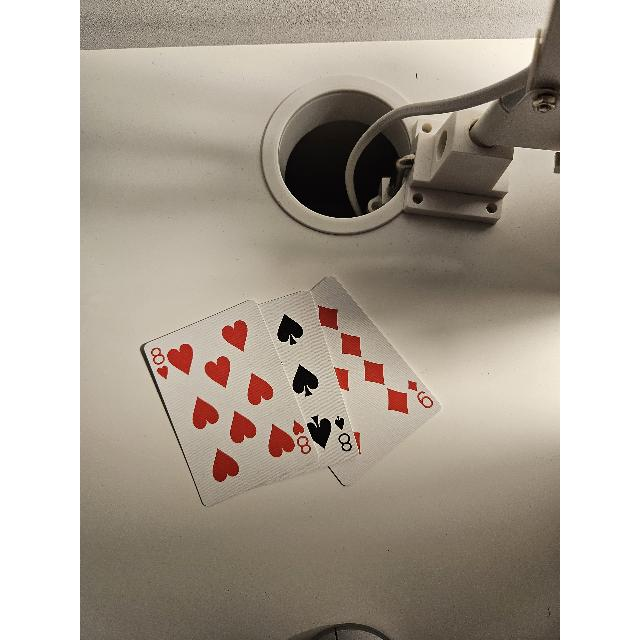8H: (149, 338, 171, 380), (292, 419, 312, 457)
8S: (334, 415, 356, 451)
9D: (406, 379, 434, 409)
